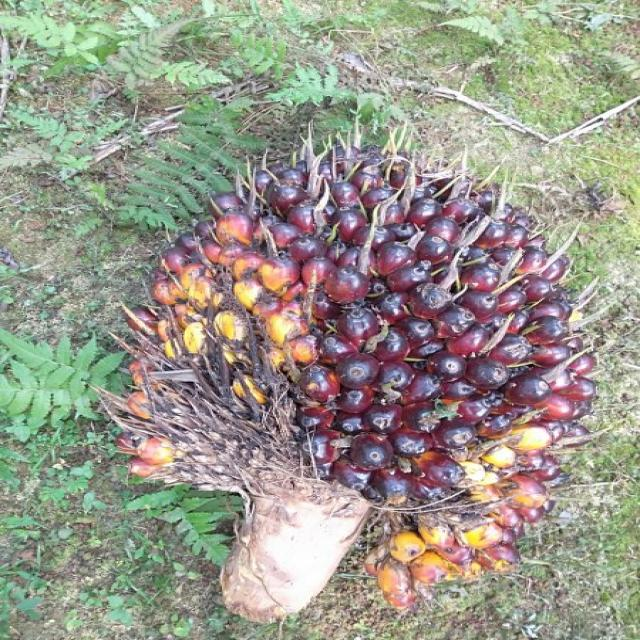fraksi 1: (85, 90, 618, 614)
